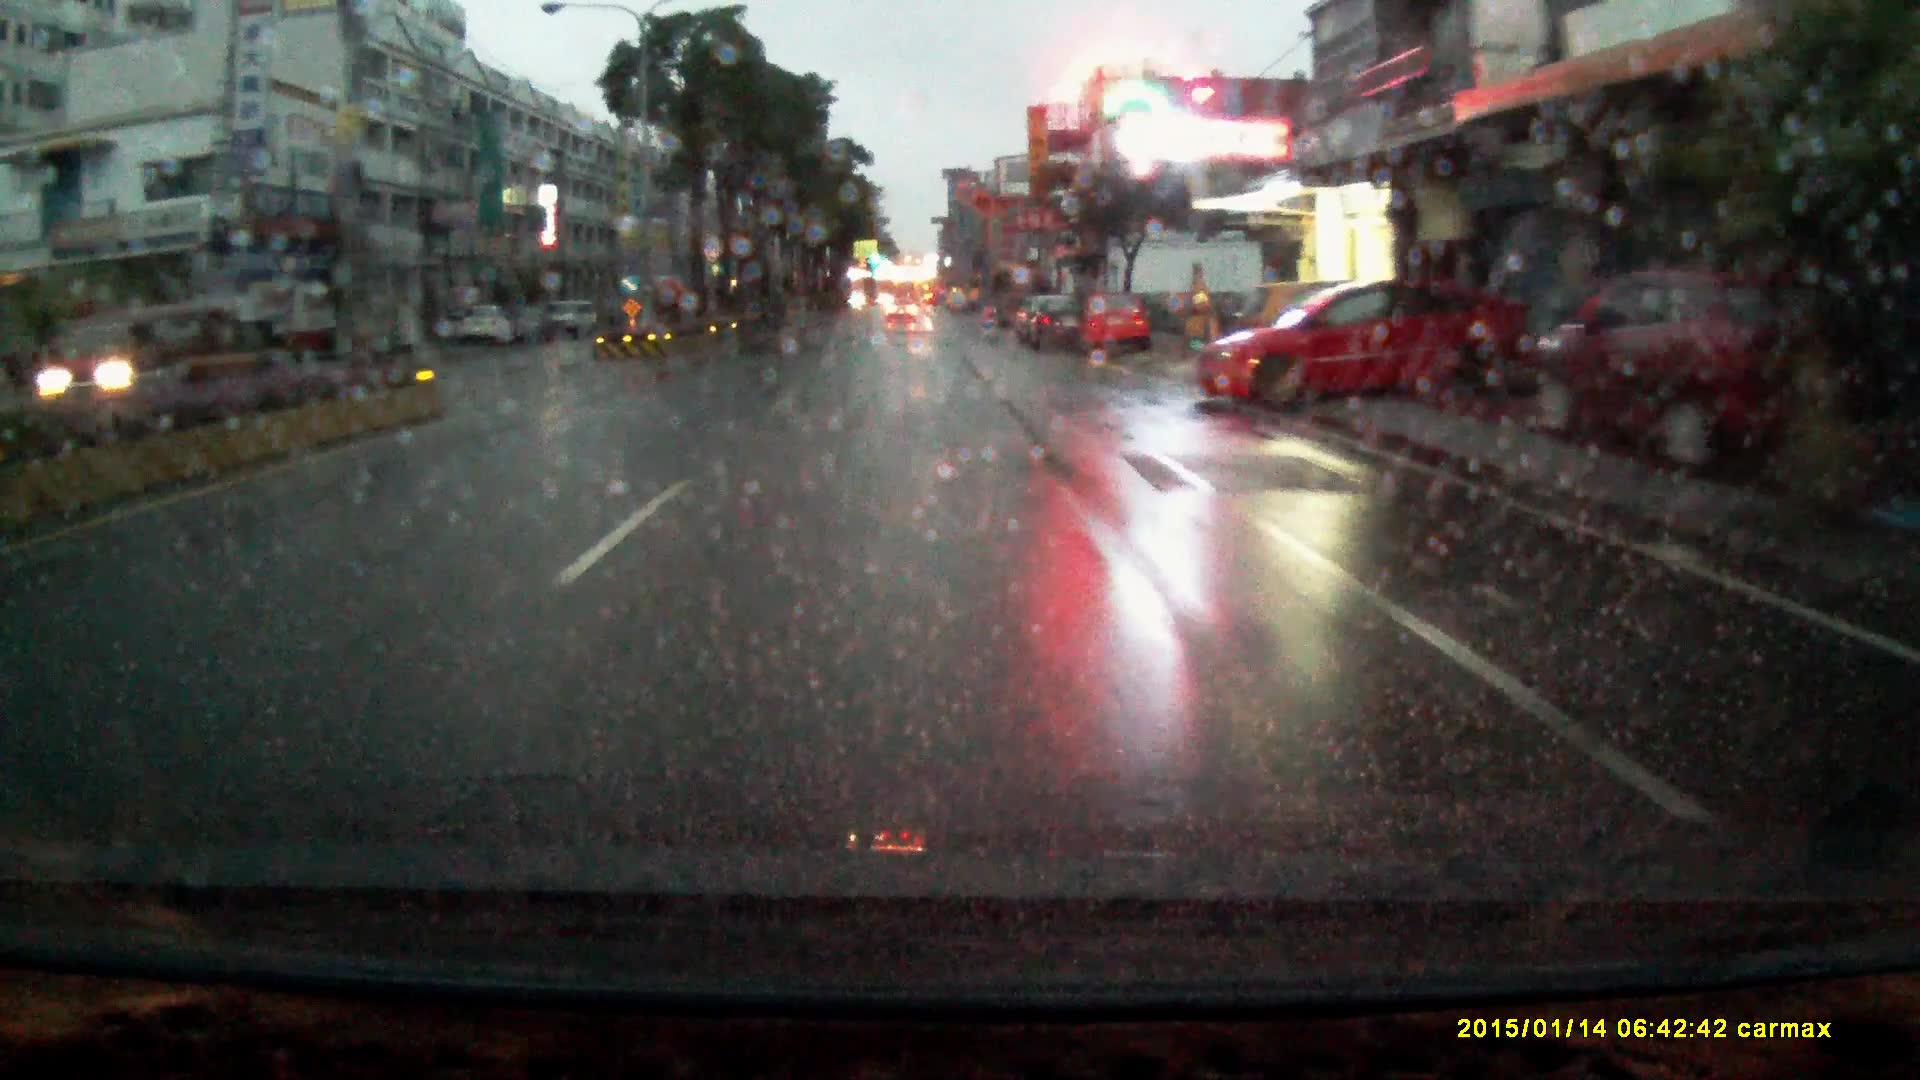vehicle: (1528, 268, 1847, 480), (1199, 276, 1542, 411), (55, 301, 239, 405), (1068, 299, 1158, 361), (1022, 299, 1088, 355), (460, 302, 513, 349), (545, 301, 603, 340), (887, 298, 918, 326)
